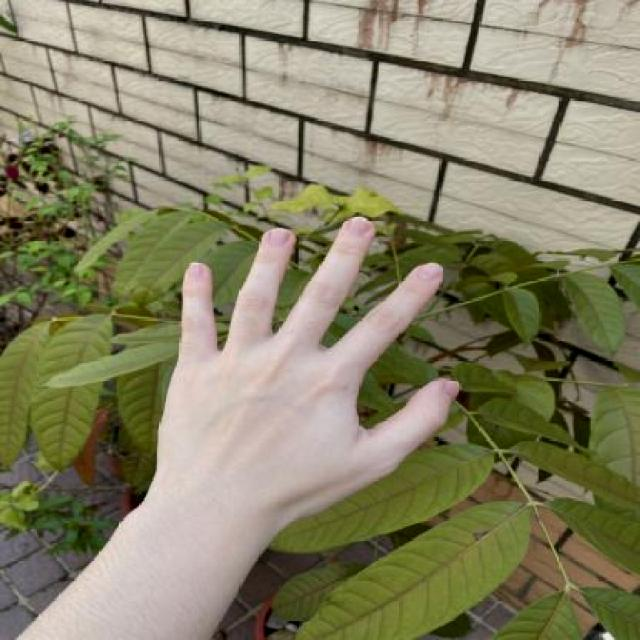no_glove: (130, 204, 470, 538)
